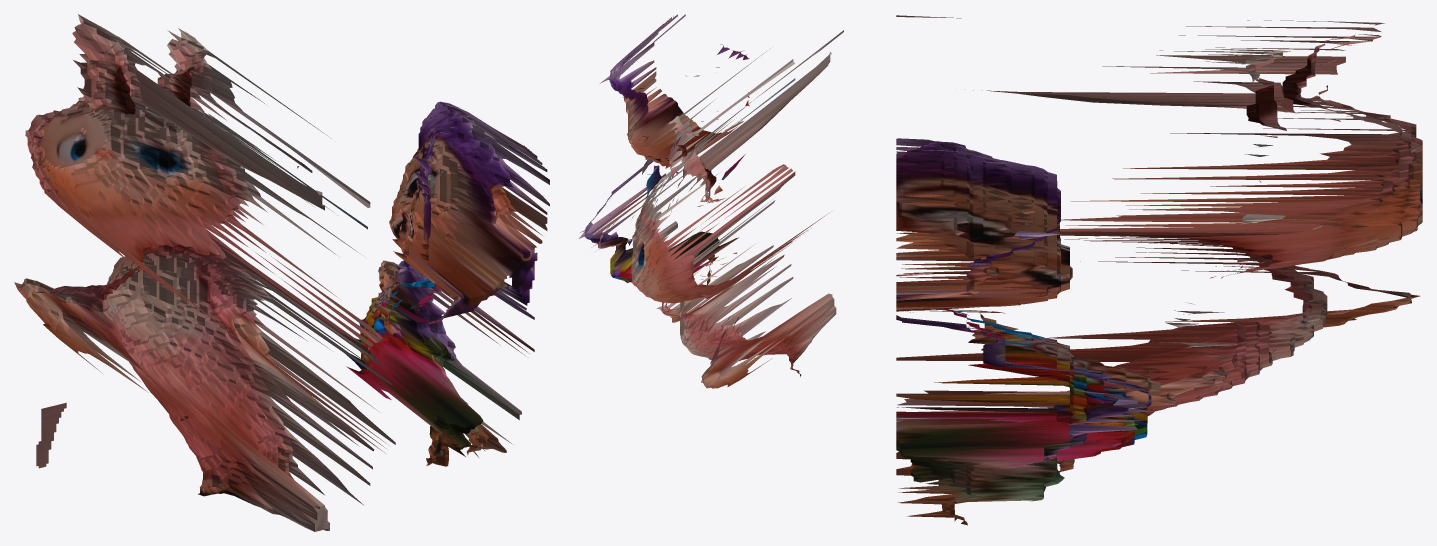
The model's file is frame_00066.glb.
3 renders of one model, left to right at view 1: azimuth 30°, elevation 25°; view 2: azimuth 150°, elevation 25°; view 3: azimuth 270°, elevation 25°, orthographic. The views are drawn at different scales.
Parts seen in each view (by area): view 1: geometry_0; view 2: geometry_0; view 3: geometry_0.
Part boxes in pixels (x1,y1,x2,y2): geometry_0: [14, 14, 549, 531]; geometry_0: [579, 14, 843, 388]; geometry_0: [896, 15, 1422, 525].
Size of the model in its own units: 0.1189 by 0.1756 by 0.16.
Materials: 1 (1 with a texture image).
